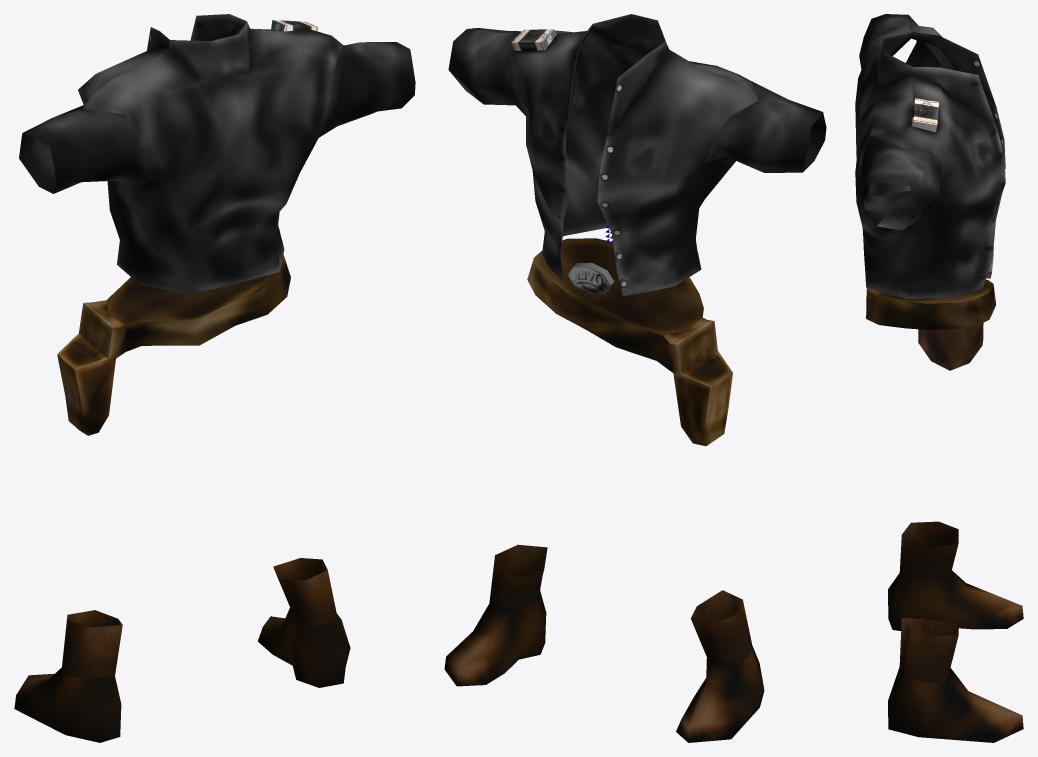
File: Gunsmith Outfit male.obj
The picture shows the model from 3 angles, left to right: view 1: azimuth 30°, elevation 25°; view 2: azimuth 150°, elevation 25°; view 3: azimuth 270°, elevation 25°; orthographic projection. The views are drawn at different scales.
Visible parts, largest first — view 1: default012, Object01; view 2: default012, Object01; view 3: default012, Object01.
Part boxes in pixels (<box>): default012: <box>14,14,415,742</box>; Object01: <box>57,254,290,435</box>; default012: <box>444,14,826,742</box>; Object01: <box>527,238,732,446</box>; default012: <box>855,14,1023,742</box>; Object01: <box>866,279,995,370</box>.
Bounding box in the file's own units: 51.08 × 87.92 × 21.3.
